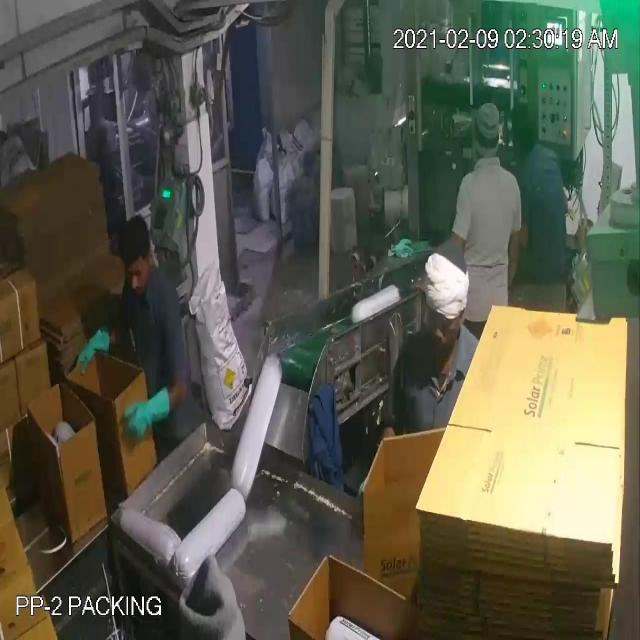Gloves: (39, 60, 153, 412)
